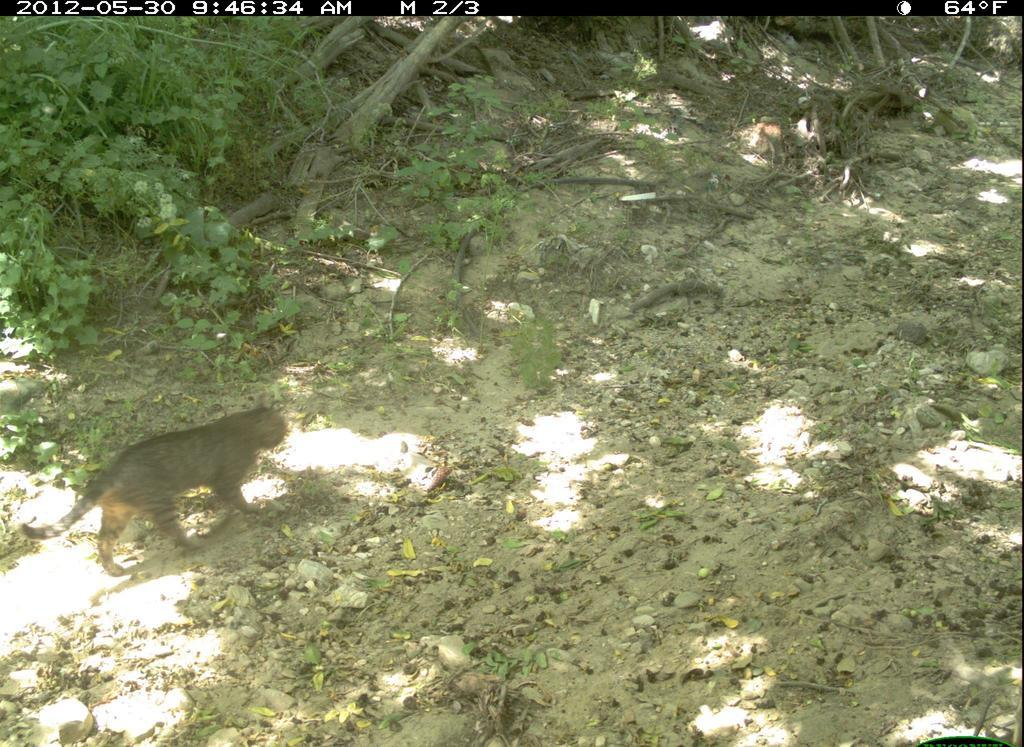cat: (20, 395, 300, 587)
